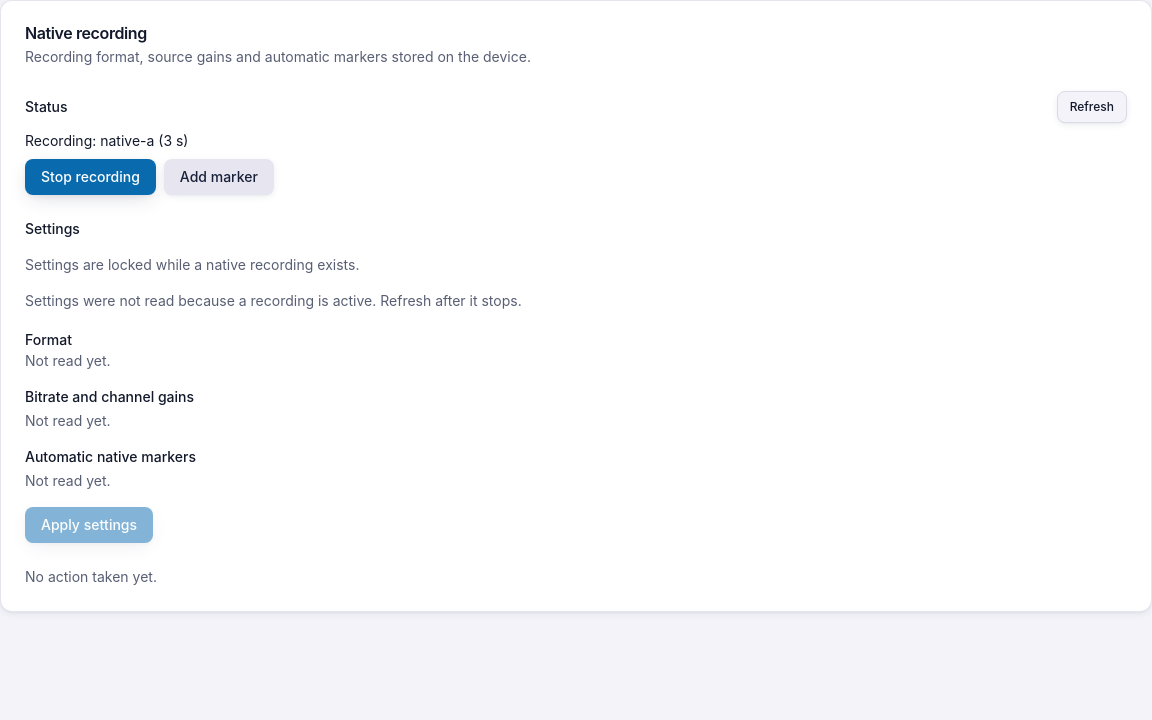
Test case: DeviceNativeRecordingPanel failure behavior › blocks Stop and Marker when fresh status shows the recording changed
The width and height of the screenshot is (1152, 720).
Click the button "Stop recording".
click(90, 177)  # box x1=25 y1=159 x2=156 y2=195
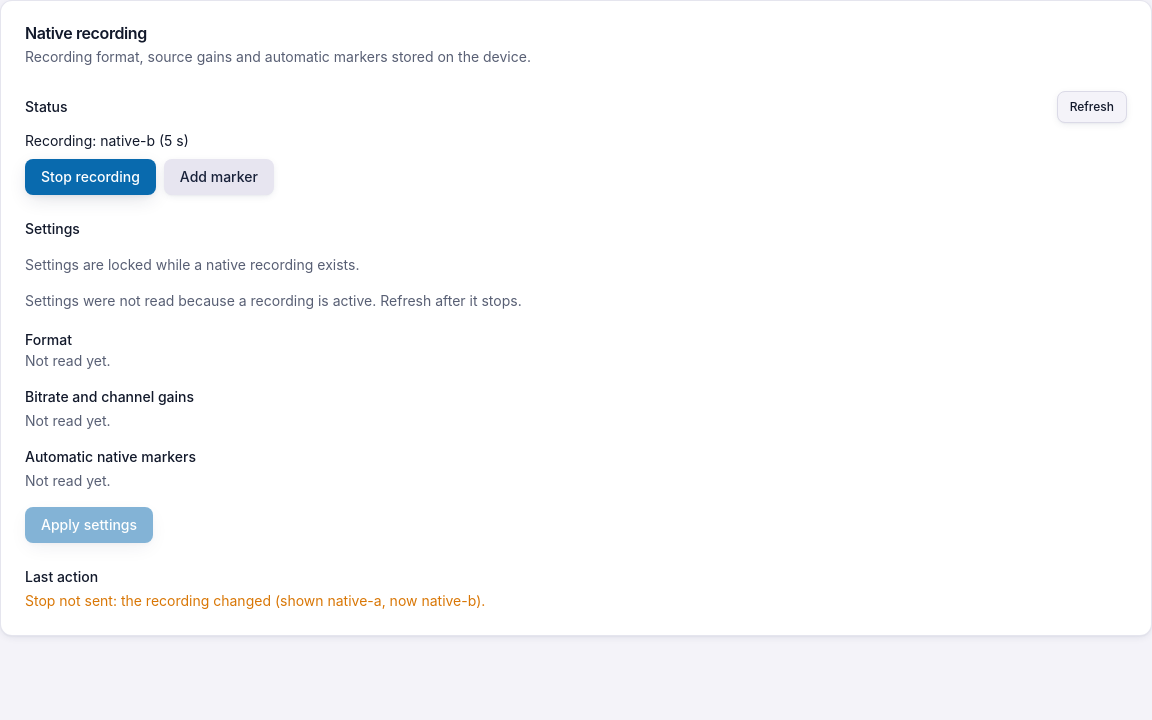
expect the text "Stop not sent: the recording changed" is shown: met, box x1=25 y1=592 x2=485 y2=609
Click the button with test id "native-marker".
click(219, 177)  # box x1=164 y1=159 x2=274 y2=195
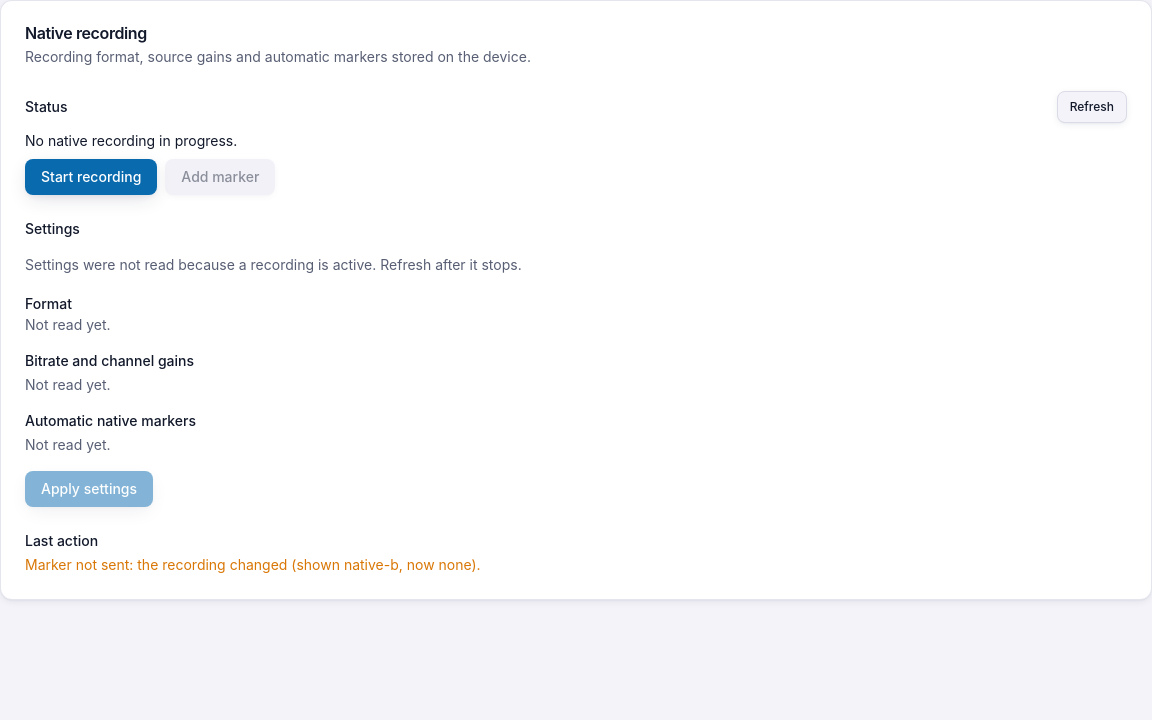
expect the text "Marker not sent: the recording changed" is shown: met, box x1=25 y1=556 x2=481 y2=573
